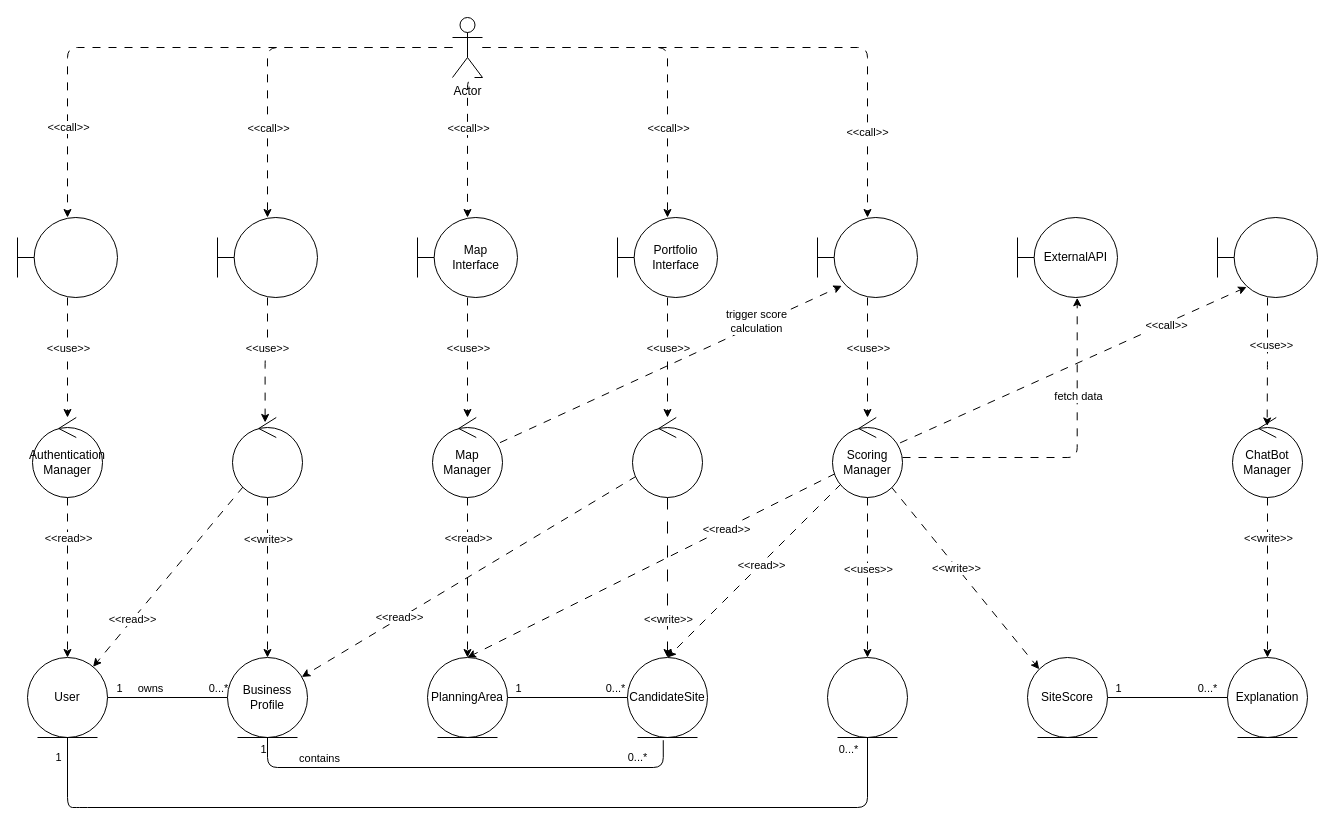
This 1335x826 diagram has some shape labels left out. The centre of each missing label's shape, as x and y in pixels:
"Authentication Interface" goes at point 67,257.
"BusinessProfile Inerface" goes at point 267,257.
"BusinessProfile Manager" goes at point 267,457.
"ChatBot Interface" goes at point 1267,257.
"Portfolio Manager" goes at point 667,457.
"Scoring Interface" goes at point 867,257.
"WeightConfig" goes at point 867,697.
